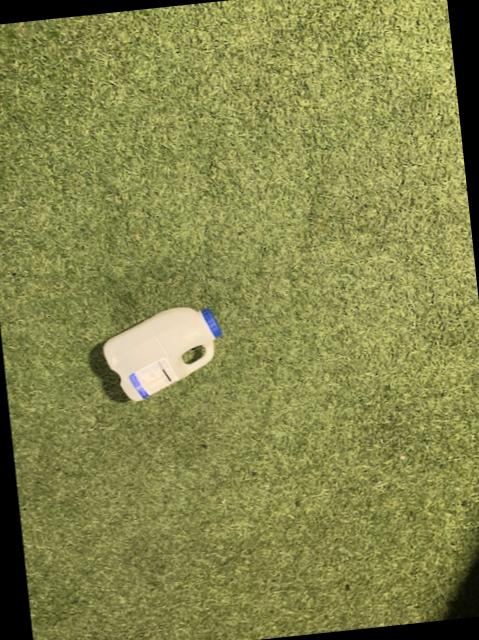plastic: (101, 306, 219, 399)
